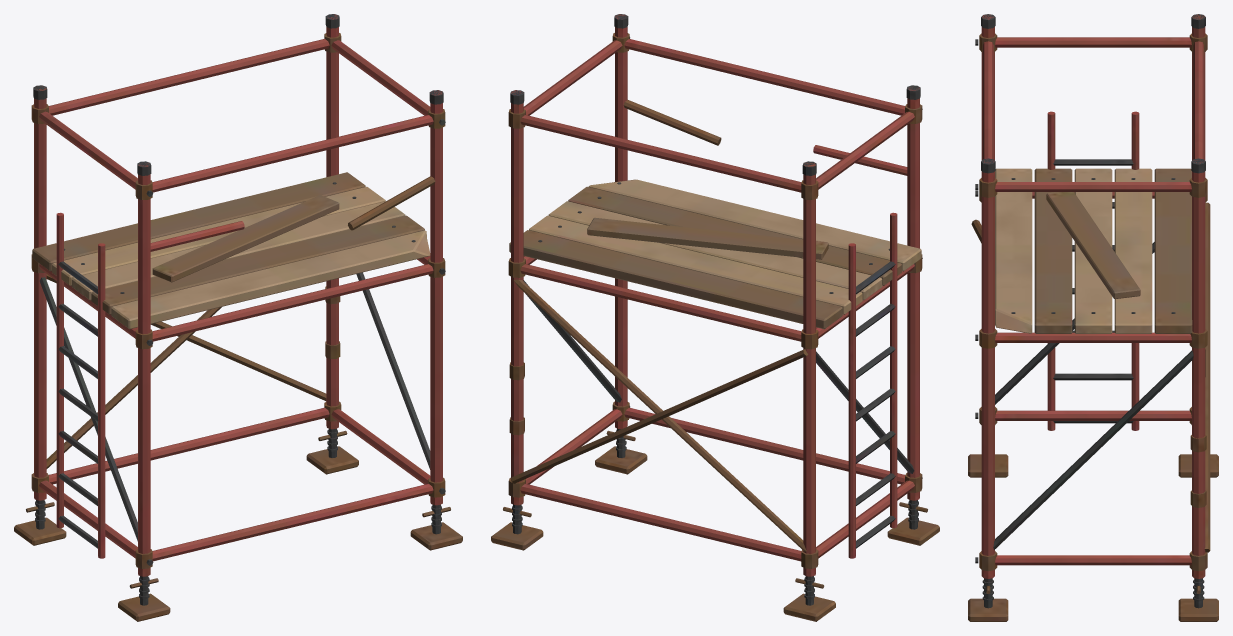
File: CS01_scaffolding_section_v3.glb
The picture shows the model from 3 angles, left to right: view 1: azimuth 30°, elevation 25°; view 2: azimuth 150°, elevation 25°; view 3: azimuth 270°, elevation 25°; orthographic projection.
Parts seen in each view (by area): view 1: Square load spreading foot; view 2: Square load spreading foot; view 3: Square load spreading foot.
Boxes of the visible parts, left/top/right/bottom form: Square load spreading foot: left=14, top=14, right=462, bottom=621; Square load spreading foot: left=491, top=14, right=939, bottom=621; Square load spreading foot: left=968, top=14, right=1218, bottom=621.
Bounding box in the file's own units: 2.29 × 3 × 1.51.
Materials: 5 (5 with a texture image).
